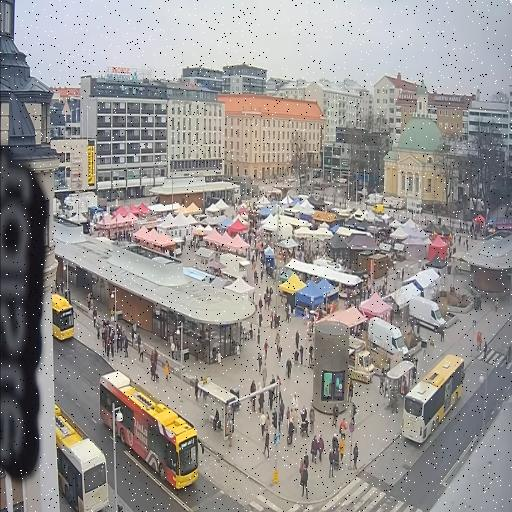Bus: (99, 371, 199, 489), (54, 403, 107, 511), (401, 355, 464, 443), (51, 294, 74, 340)
Delivery: (368, 317, 407, 358), (408, 296, 444, 332), (348, 336, 372, 383)
